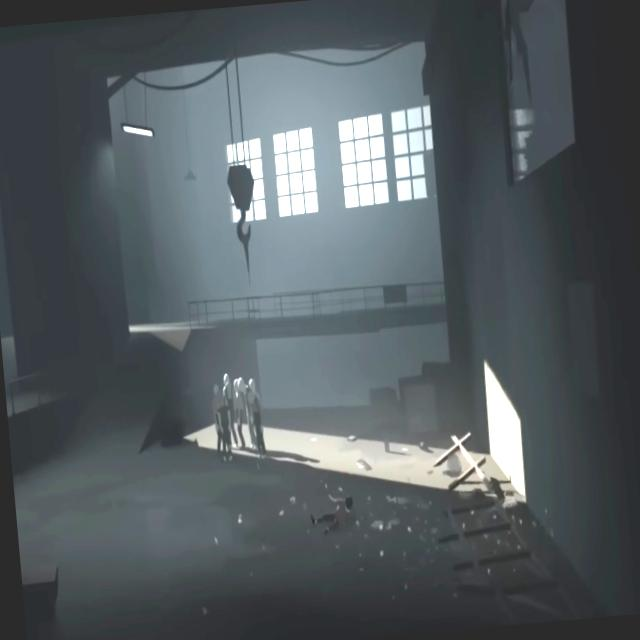boy: (306, 488, 362, 546)
